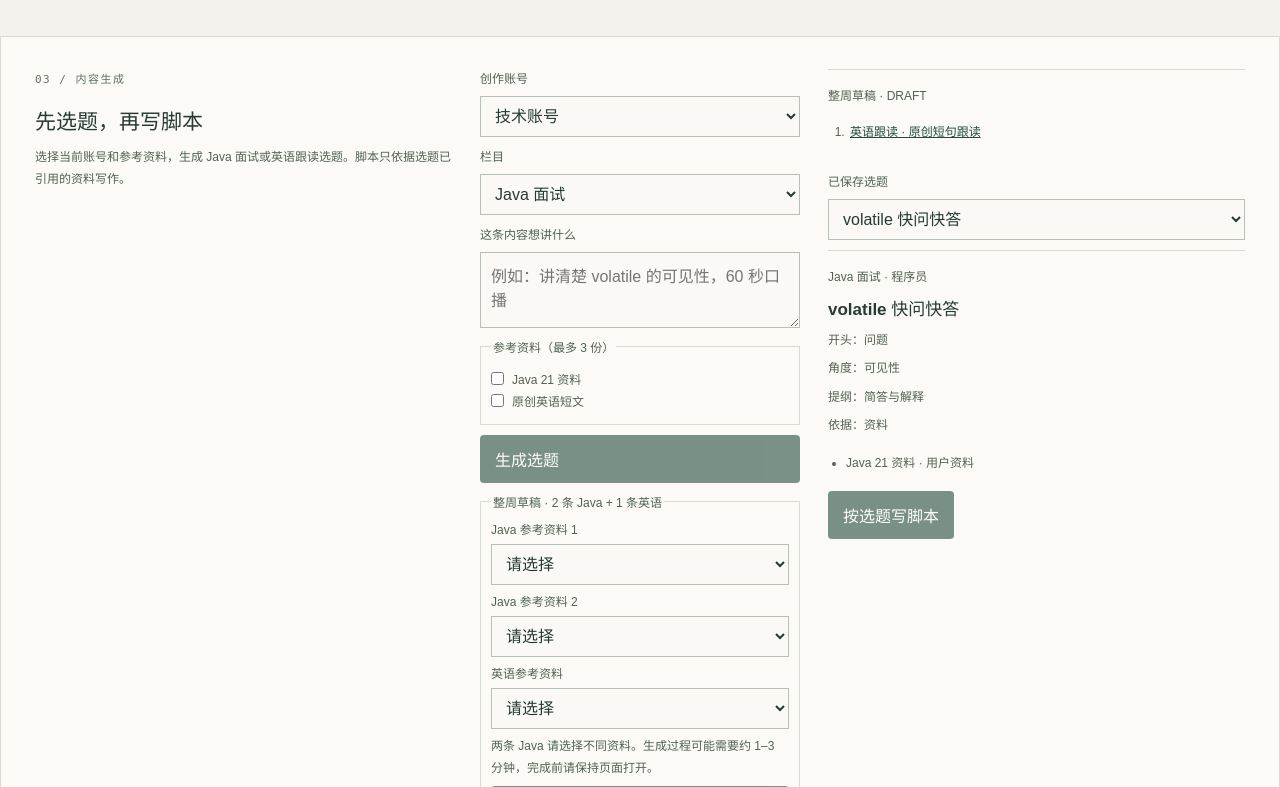
it: content generation page › reloads a saved week and opens its selected script with a source after refresh
The width and height of the screenshot is (1280, 787).
Click the button with class "week-topic".
click(915, 133)  # box [848, 120, 983, 146]
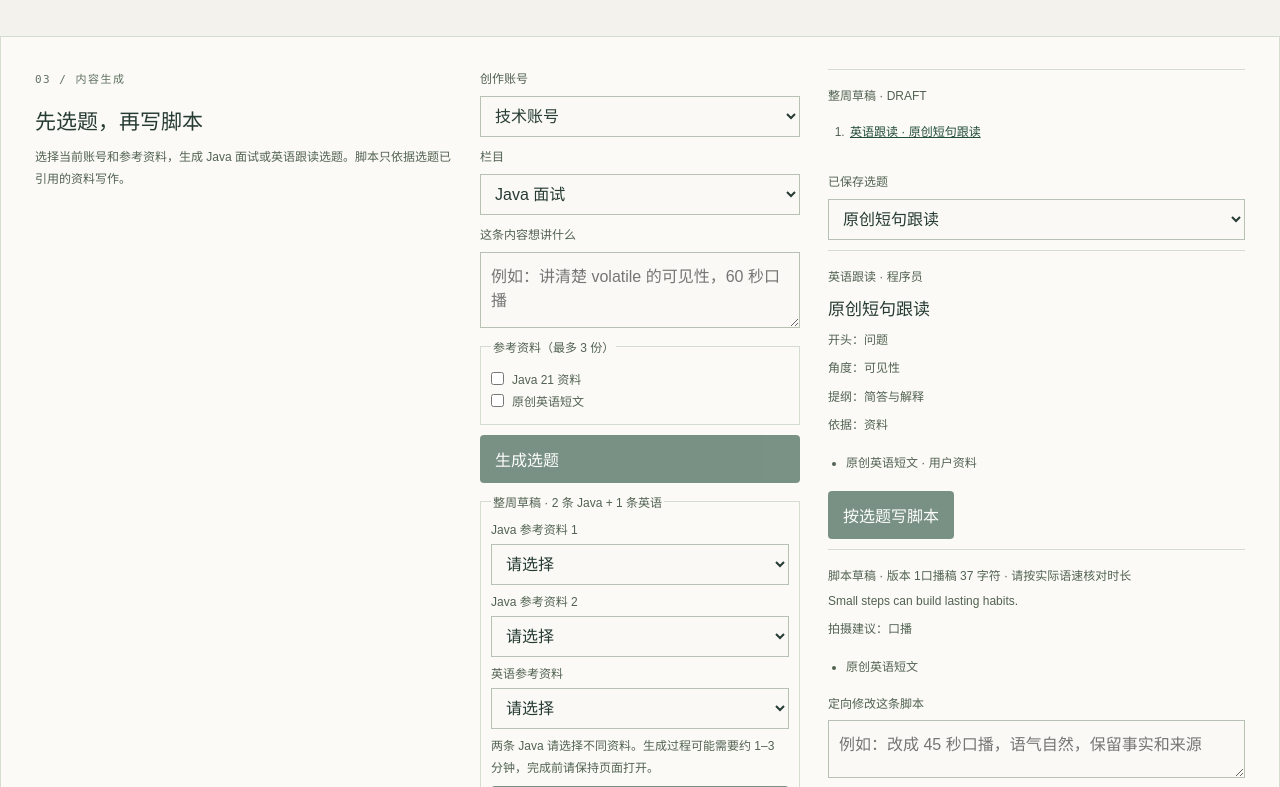
Expected: the text "原创英语短文" is shown, [491, 394, 584, 409]
Result: the text "Small steps can build lasting habits." is shown at [828, 594, 1018, 608]
